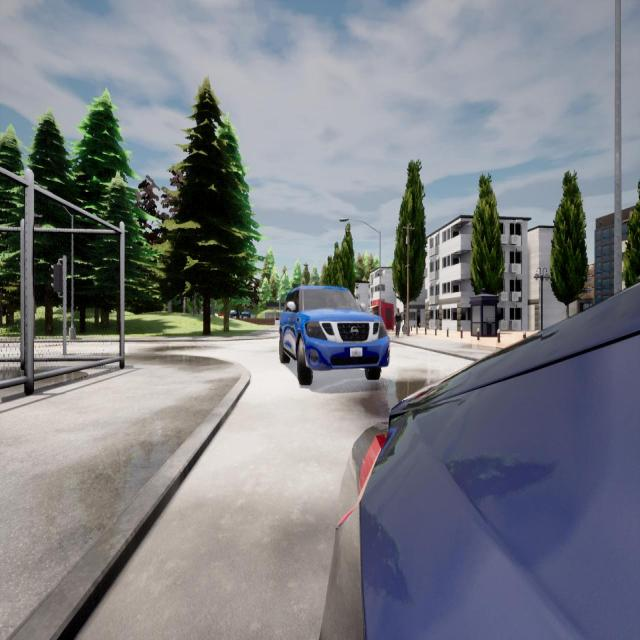Pedestrian: (394, 307, 402, 340)
Vehicle: (323, 287, 640, 640), (279, 286, 389, 382)
traffic_light: (50, 264, 64, 293)
